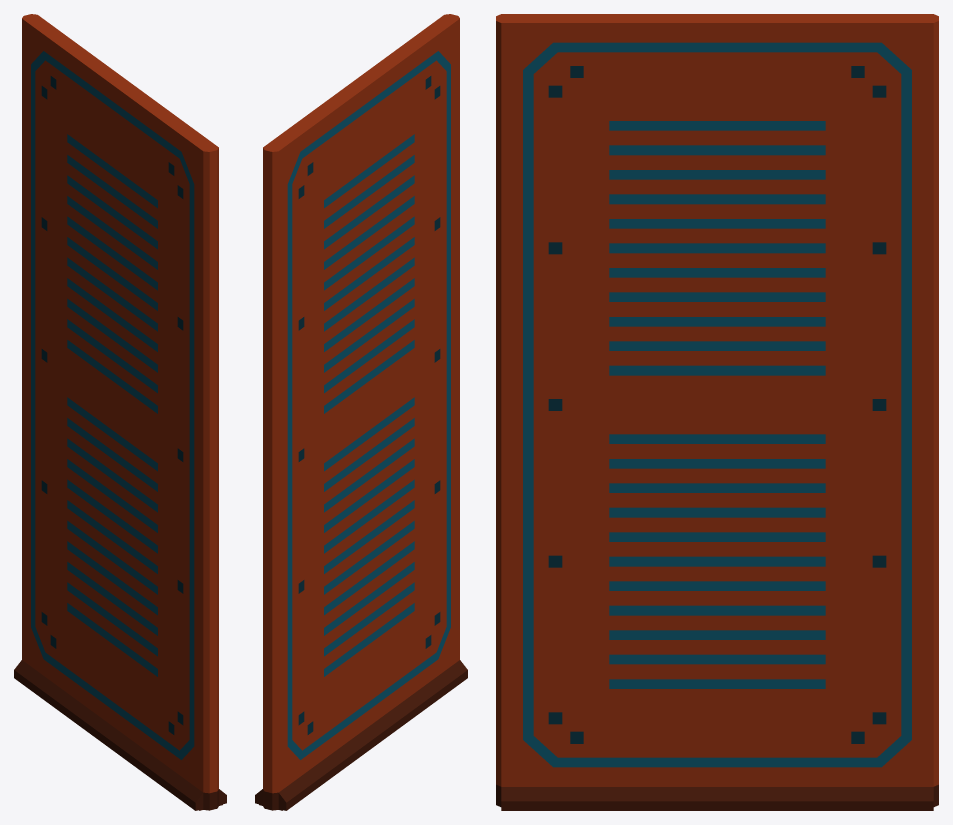
File: Wall_1-3.fbx
The picture shows the model from 3 angles, left to right: view 1: azimuth 30°, elevation 25°; view 2: azimuth 150°, elevation 25°; view 3: azimuth 270°, elevation 25°; orthographic projection. The views are drawn at different scales.
Parts seen in each view (by area): view 1: Wall_1-3; view 2: Wall_1-3; view 3: Wall_1-3.
Part boxes in pixels (x1=…): Wall_1-3: x1=14, y1=14, x2=226, y2=810; Wall_1-3: x1=255, y1=14, x2=467, y2=810; Wall_1-3: x1=496, y1=14, x2=938, y2=810.
Bounding box in the file's own units: 0.4 × 4.1 × 8.01.
